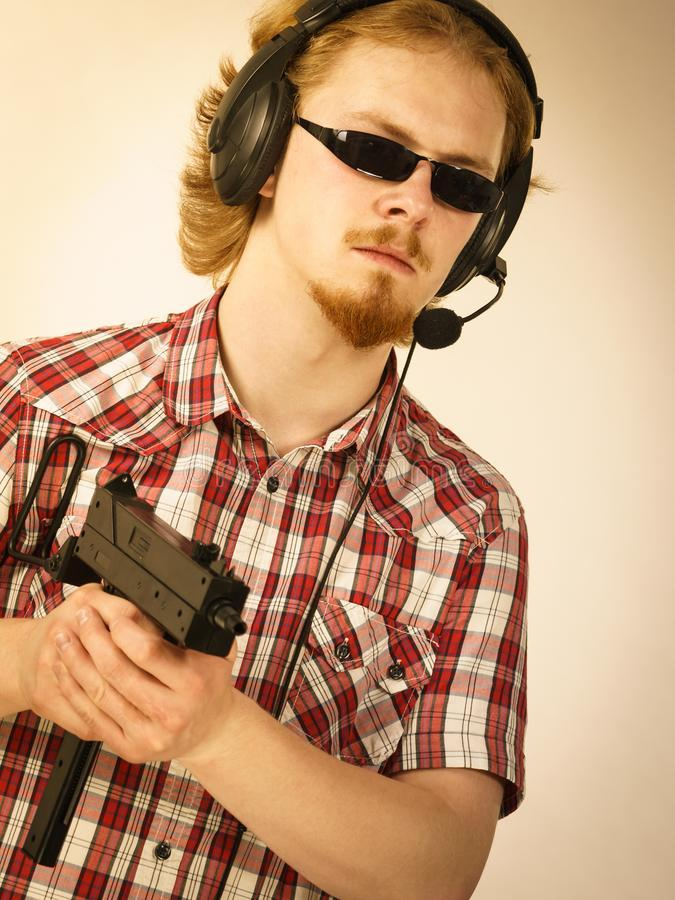criminal: (0, 0, 548, 900)
weapon: (0, 428, 254, 871)
